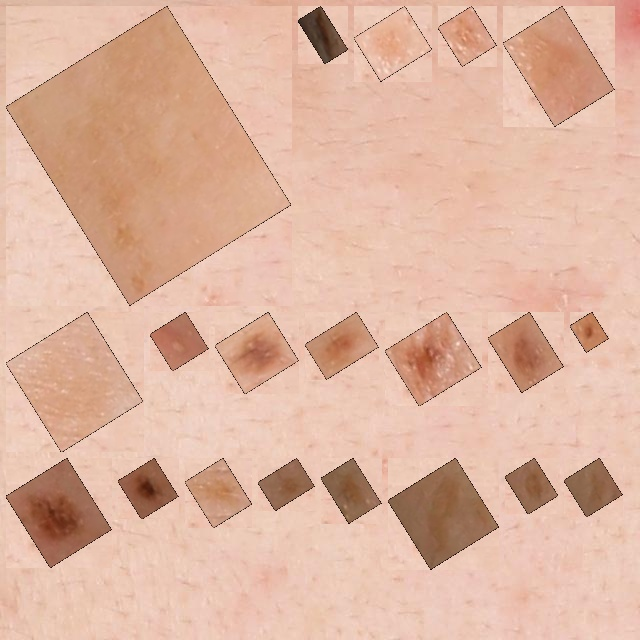melasma: (17, 17, 280, 294), (17, 323, 132, 441), (514, 17, 603, 115), (399, 469, 488, 558), (365, 17, 421, 70), (196, 469, 241, 517), (332, 469, 370, 512), (449, 17, 485, 55), (575, 469, 611, 506), (516, 469, 547, 503), (269, 469, 303, 499)
nevus: (17, 469, 101, 556), (396, 323, 470, 395), (226, 323, 288, 383), (499, 323, 552, 381), (316, 323, 367, 368), (129, 469, 167, 508), (581, 323, 597, 341)
pustule: (161, 323, 197, 360)
